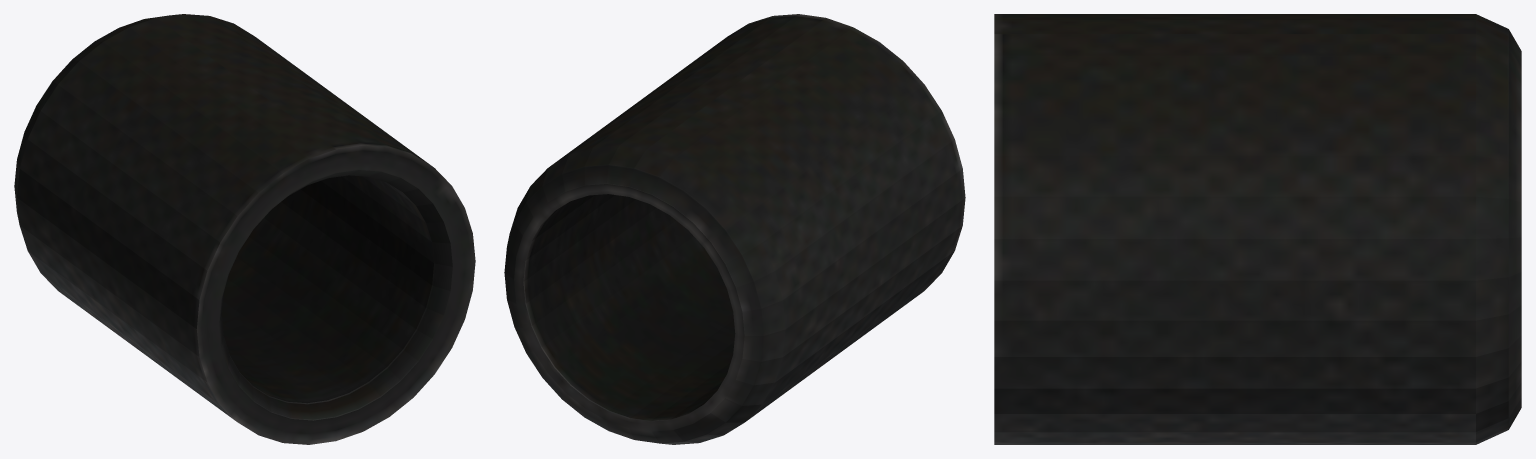
3 views of the same model, side by side, from view 1: azimuth 30°, elevation 25°; view 2: azimuth 150°, elevation 25°; view 3: azimuth 270°, elevation 25° (orthographic). The views are drawn at different scales.
Parts seen in each view (by area): view 1: TW_5f2aa4464b50c14bcf07acdb_PZ_Import; view 2: TW_5f2aa4464b50c14bcf07acdb_PZ_Import; view 3: TW_5f2aa4464b50c14bcf07acdb_PZ_Import.
Part boxes in pixels (bbox=[...]): TW_5f2aa4464b50c14bcf07acdb_PZ_Import: bbox=[14, 14, 475, 444]; TW_5f2aa4464b50c14bcf07acdb_PZ_Import: bbox=[504, 14, 965, 444]; TW_5f2aa4464b50c14bcf07acdb_PZ_Import: bbox=[994, 14, 1521, 444].
Size of the model in its own units: 0.0114 by 0.014 by 0.0114.
1 material, 1 textured.
